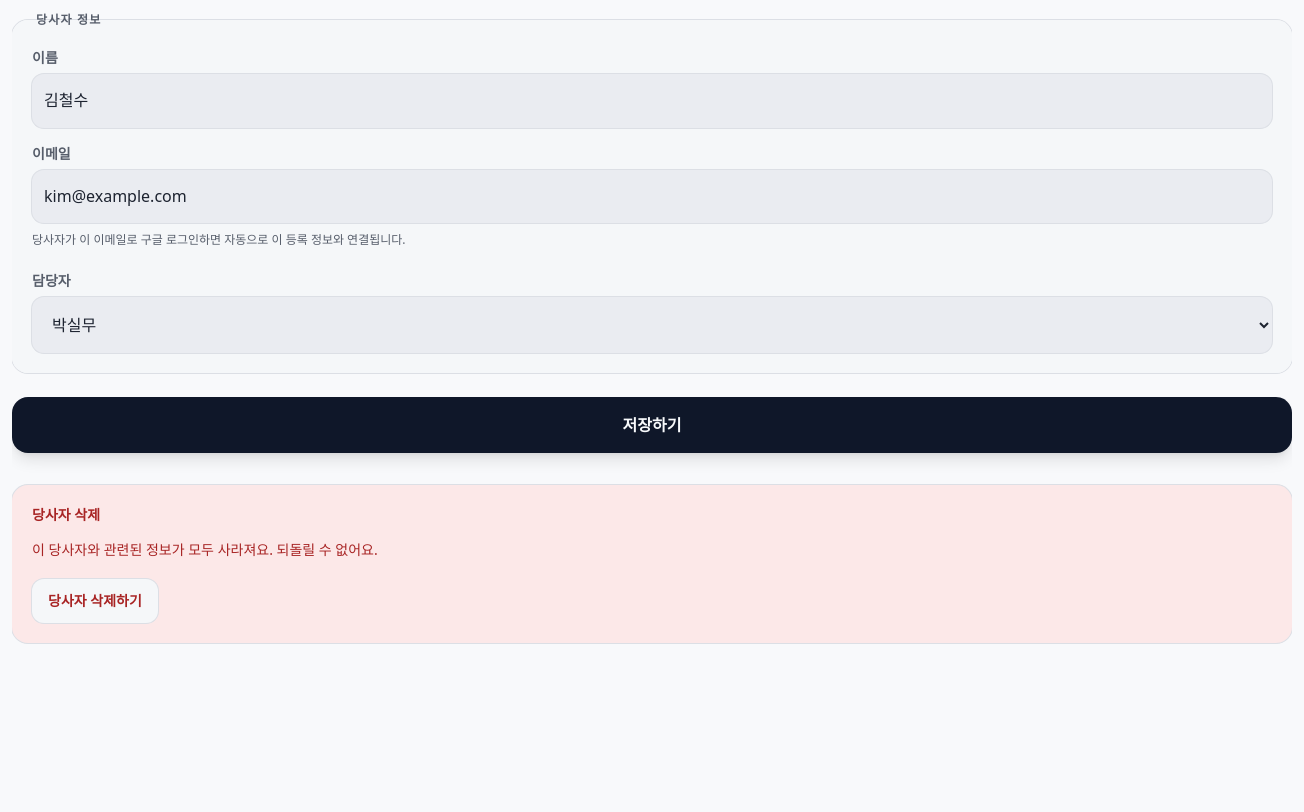
Test: ParticipantEditClient — 당사자 수정·삭제 › 서버 오류는 인라인 role=alert 한 채널로만 알린다(전역 announce 중복 없음 — 두 번 읽힘 방지)
Click the button "저장하기". click: [652, 425]
box: top-left (12, 397), bottom-right (1292, 453)
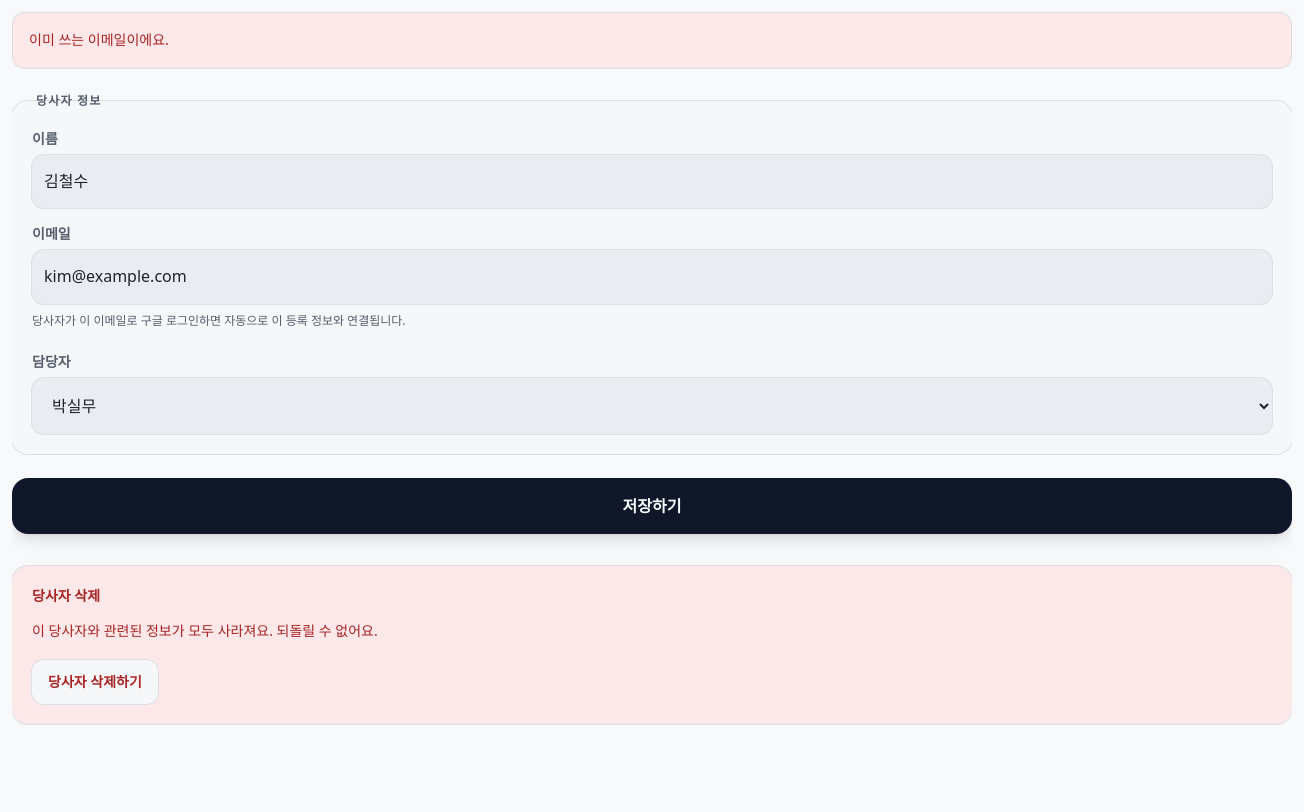
Result: the message reads "이미 쓰는 이메일이에요." at top-left (29, 30), bottom-right (169, 49)
